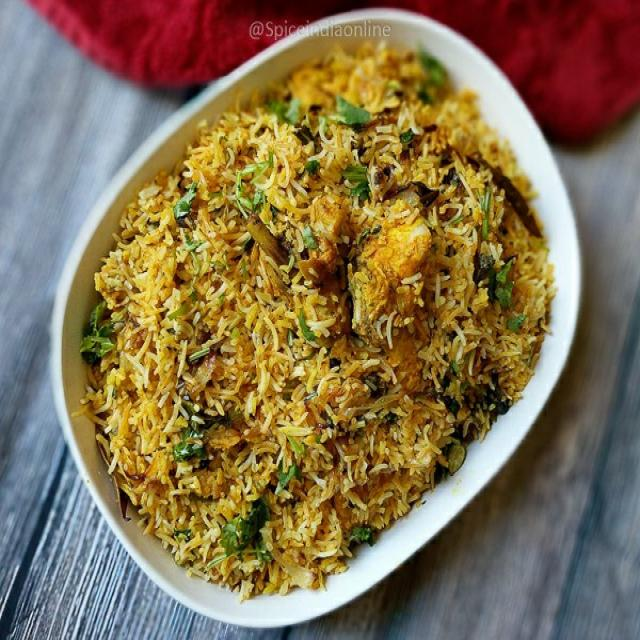Biryani: (80, 42, 555, 594)
